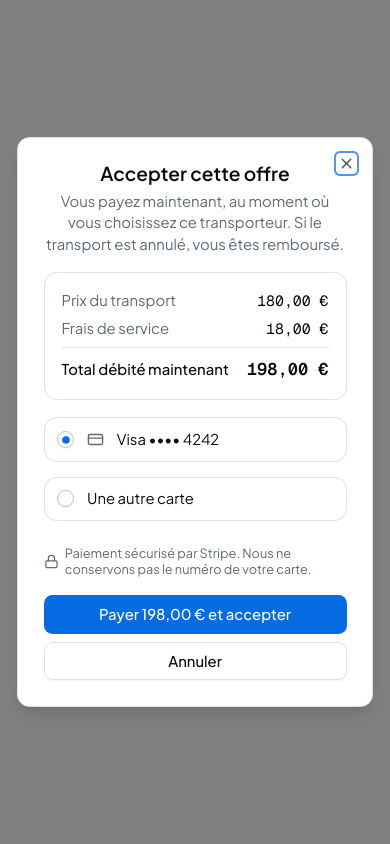
Test: AcceptPaymentDialog — a job that is paid here › turns a refused award into next steps, and says the card was not debited
Later steps or results of the test are not shown.
Click the button "Payer 198,00 € et accepter": (195, 615) [44, 596, 346, 634]
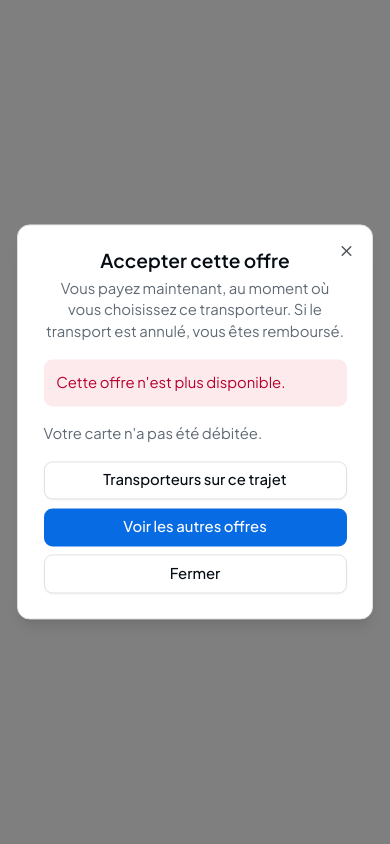
Expected: the text "Cette offre n'est plus disponible." is shown, [44, 359, 346, 406]
Expected: the text "Votre carte n'a pas été débitée." is shown, [44, 424, 262, 442]
Expected: the button "Payer" is gone
